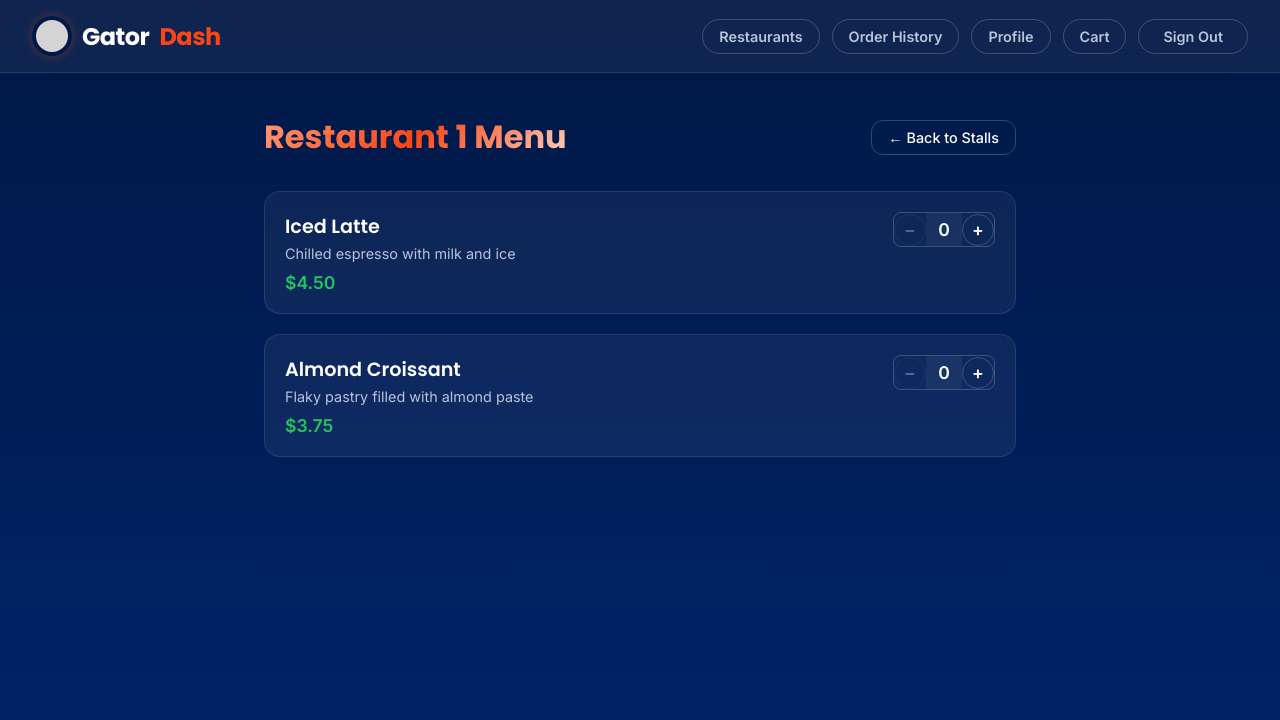
Menu Page - JWT Auth + Cart Flow › increments quantity when + is clicked
This screenshot has width=1280, height=720.
Click the button "+" in the row of "Iced Latte" at (978,230), box 962,214 -> 994,246
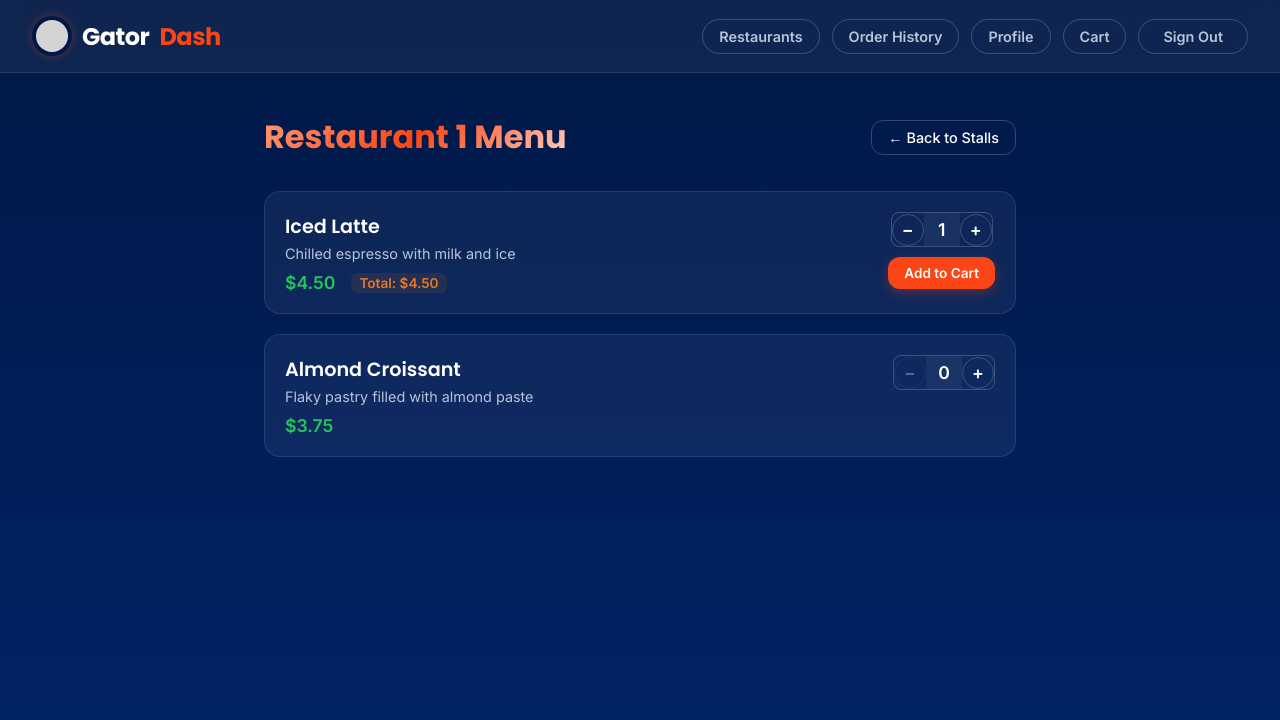
Check: the text "1" is shown, box 924,213 -> 960,246
